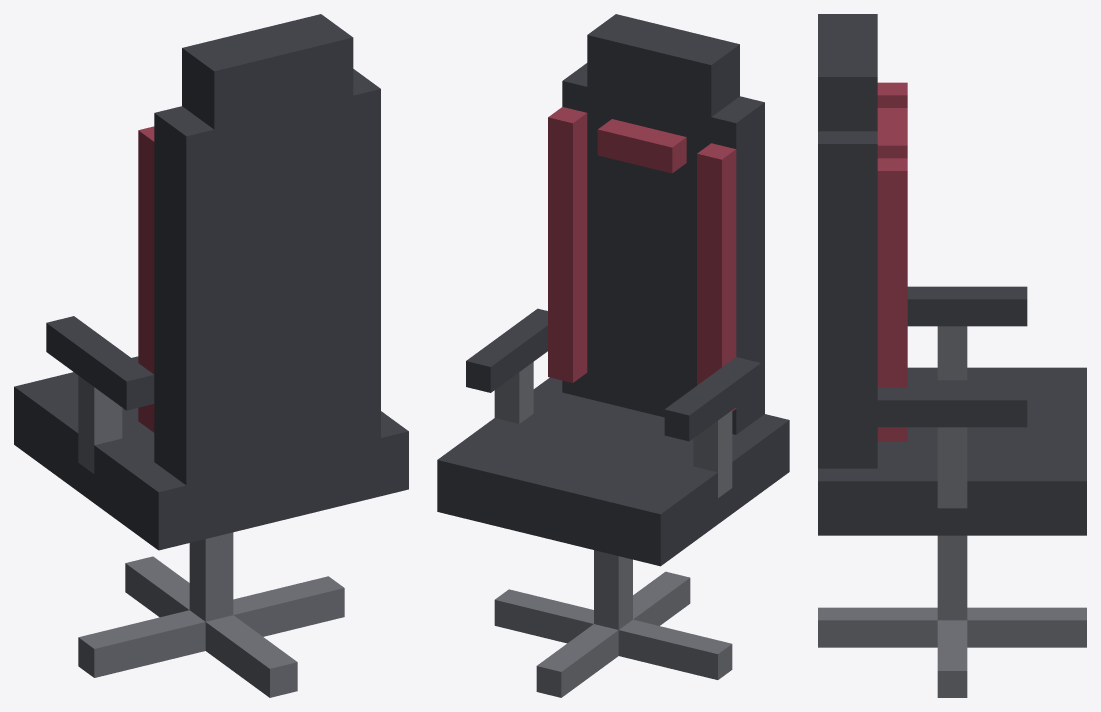
File: chaise_gamer.glb
3 renders of one model, left to right at view 1: azimuth 30°, elevation 25°; view 2: azimuth 150°, elevation 25°; view 3: azimuth 270°, elevation 25°, orthographic. The views are drawn at different scales.
Parts seen in each view (by area): view 1: main; view 2: main; view 3: main.
Boxes of the visible parts, bbox=[...] form: main: bbox=[14, 14, 408, 697]; main: bbox=[437, 14, 789, 697]; main: bbox=[818, 14, 1086, 697].
Bounding box in the file's own units: 0.5625 × 1.38 × 0.5625.
